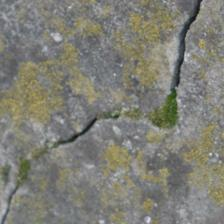Crack: (59, 0, 168, 111), (4, 70, 115, 135)
